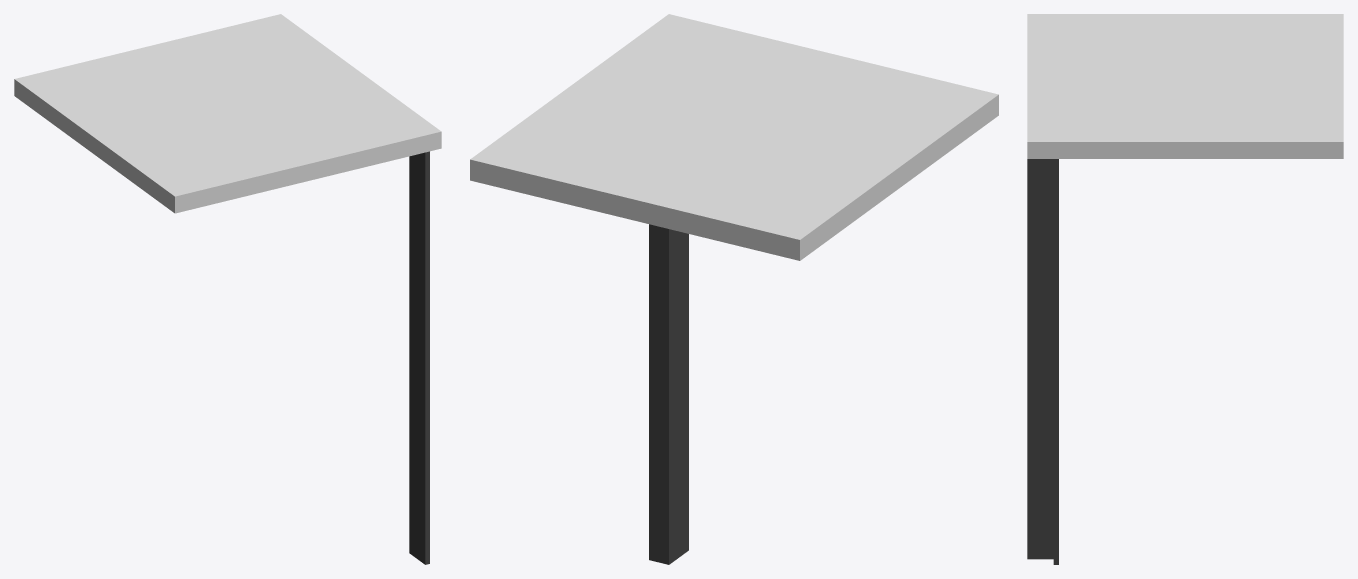
The model's file is KitchenCorner1_C3_02L.fbx.
3 views of the same model, side by side, from view 1: azimuth 30°, elevation 25°; view 2: azimuth 150°, elevation 25°; view 3: azimuth 270°, elevation 25° (orthographic). The views are drawn at different scales.
Parts seen in each view (by area): view 1: KitchenCorner1_C3_02L; view 2: KitchenCorner1_C3_02L; view 3: KitchenCorner1_C3_02L.
Part boxes in pixels (left/top/right/bottom): KitchenCorner1_C3_02L: left=14, top=14, right=441, bottom=564; KitchenCorner1_C3_02L: left=470, top=14, right=998, bottom=564; KitchenCorner1_C3_02L: left=1027, top=14, right=1343, bottom=564.
Size of the model in its own units: 57.5 by 88.5 by 60.
